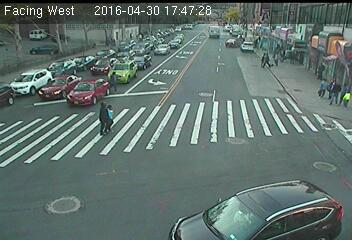neg: (62, 179, 101, 231), (195, 46, 226, 87), (303, 145, 331, 182), (36, 41, 62, 76), (30, 112, 56, 146), (165, 156, 190, 189), (254, 120, 277, 151), (289, 29, 311, 58), (150, 44, 171, 73), (206, 129, 227, 157), (179, 97, 199, 124), (212, 196, 229, 219), (225, 29, 241, 50), (104, 45, 117, 63)
pos: (85, 98, 110, 132), (315, 77, 329, 95), (336, 88, 350, 106), (262, 51, 275, 68), (317, 62, 329, 78), (107, 104, 118, 119)
